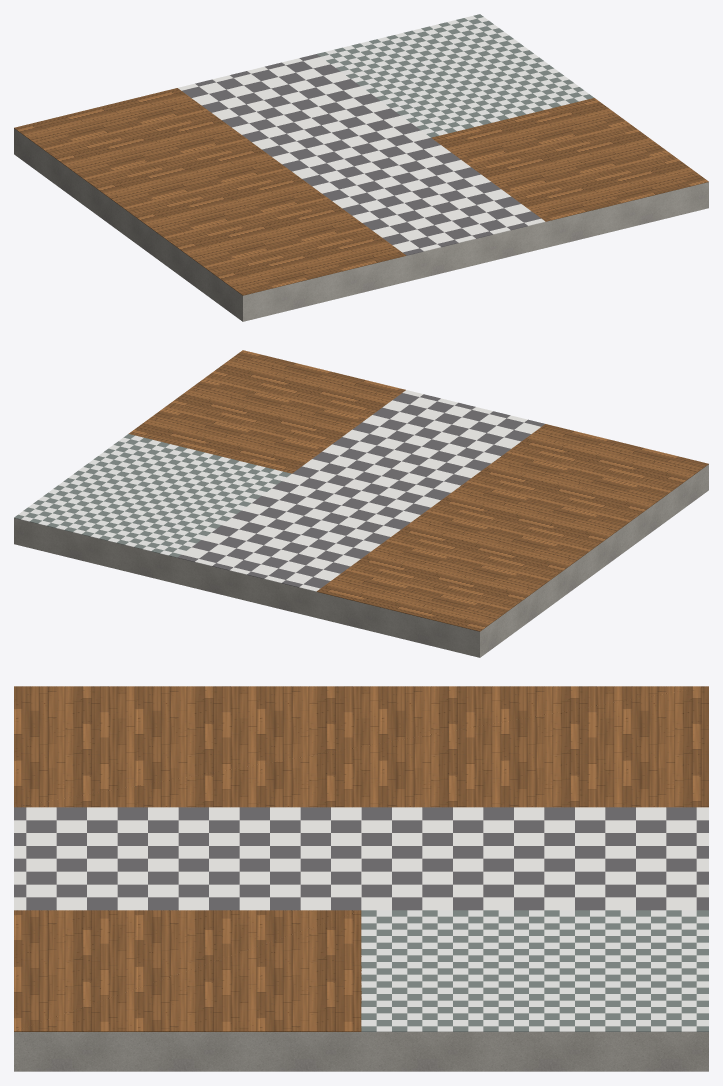
Rendered from floor_ground.glb.
3 views of the same model, one above another, from view 1: azimuth 30°, elevation 25°; view 2: azimuth 150°, elevation 25°; view 3: azimuth 270°, elevation 25° (orthographic). The views are drawn at different scales.
Parts seen in each view (by area): view 1: floor_ground_oak, floor_ground_concrete, floor_ground_marble_k, floor_ground_marble_w, floor_ground_tile_k, floor_ground_tile; view 2: floor_ground_oak, floor_ground_concrete, floor_ground_marble_w, floor_ground_marble_k, floor_ground_tile_k, floor_ground_tile; view 3: floor_ground_oak, floor_ground_marble_w, floor_ground_marble_k, floor_ground_concrete, floor_ground_tile_k, floor_ground_tile.
Boxes of the visible parts, <box> form: floor_ground_oak: <box>14,88,708,295</box>; floor_ground_concrete: <box>14,128,708,321</box>; floor_ground_marble_k: <box>182,54,540,255</box>; floor_ground_marble_w: <box>178,57,545,252</box>; floor_ground_tile_k: <box>317,14,594,137</box>; floor_ground_tile: <box>321,16,589,135</box>; floor_ground_oak: <box>128,350,708,631</box>; floor_ground_concrete: <box>14,464,708,657</box>; floor_ground_marble_w: <box>182,390,540,591</box>; floor_ground_marble_k: <box>177,393,544,588</box>; floor_ground_tile_k: <box>14,434,291,557</box>; floor_ground_tile: <box>18,435,286,555</box>; floor_ground_oak: <box>14,686,708,1031</box>; floor_ground_marble_w: <box>14,807,708,910</box>; floor_ground_marble_k: <box>14,807,708,910</box>; floor_ground_concrete: <box>14,1032,708,1071</box>; floor_ground_tile_k: <box>361,910,708,1031</box>; floor_ground_tile: <box>361,910,708,1031</box>.
Size of the model in its own units: 13.4 by 0.73 by 11.4.
Materials: 6 (2 with a texture image).
